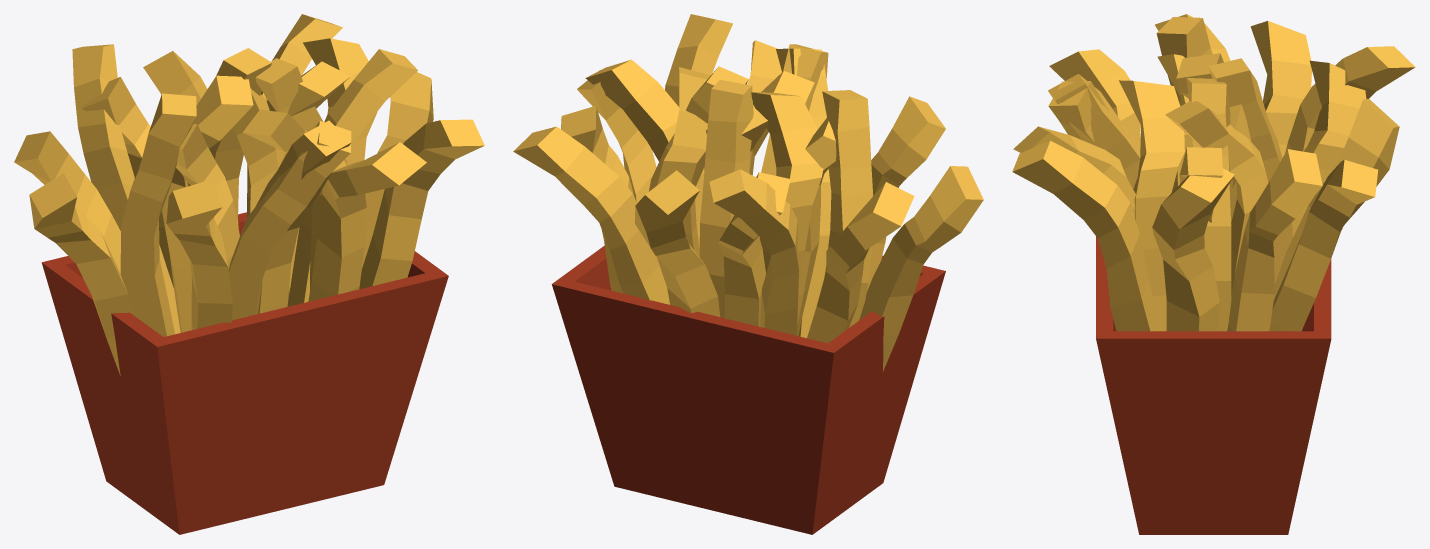
File: potato.fbx
3 views of the same model, side by side, from view 1: azimuth 30°, elevation 25°; view 2: azimuth 150°, elevation 25°; view 3: azimuth 270°, elevation 25° (orthographic). The views are drawn at different scales.
Parts seen in each view (by area): view 1: Cube.022; view 2: Cube.022; view 3: Cube.022.
Boxes of the visible parts, x1=… form: Cube.022: x1=14, y1=14, x2=484, y2=534; Cube.022: x1=513, y1=14, x2=983, y2=534; Cube.022: x1=1012, y1=14, x2=1415, y2=534.
Size of the model in its own units: 42.06 by 41.73 by 35.96.
